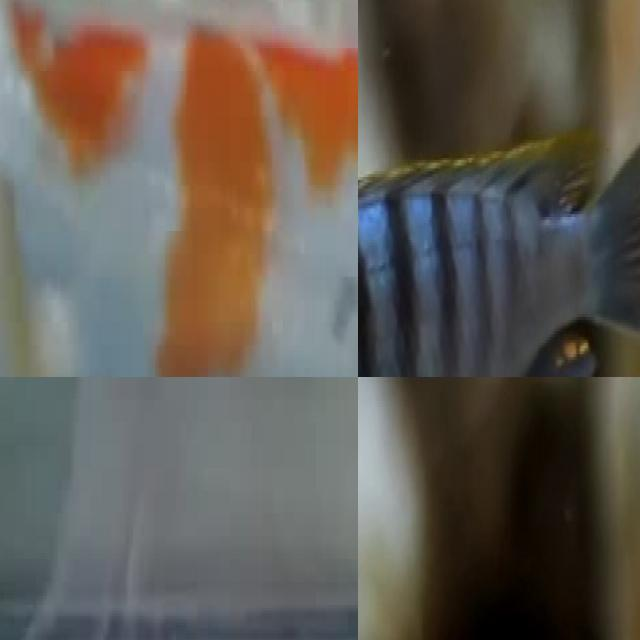fish: (0, 0, 358, 377), (56, 377, 358, 462)
